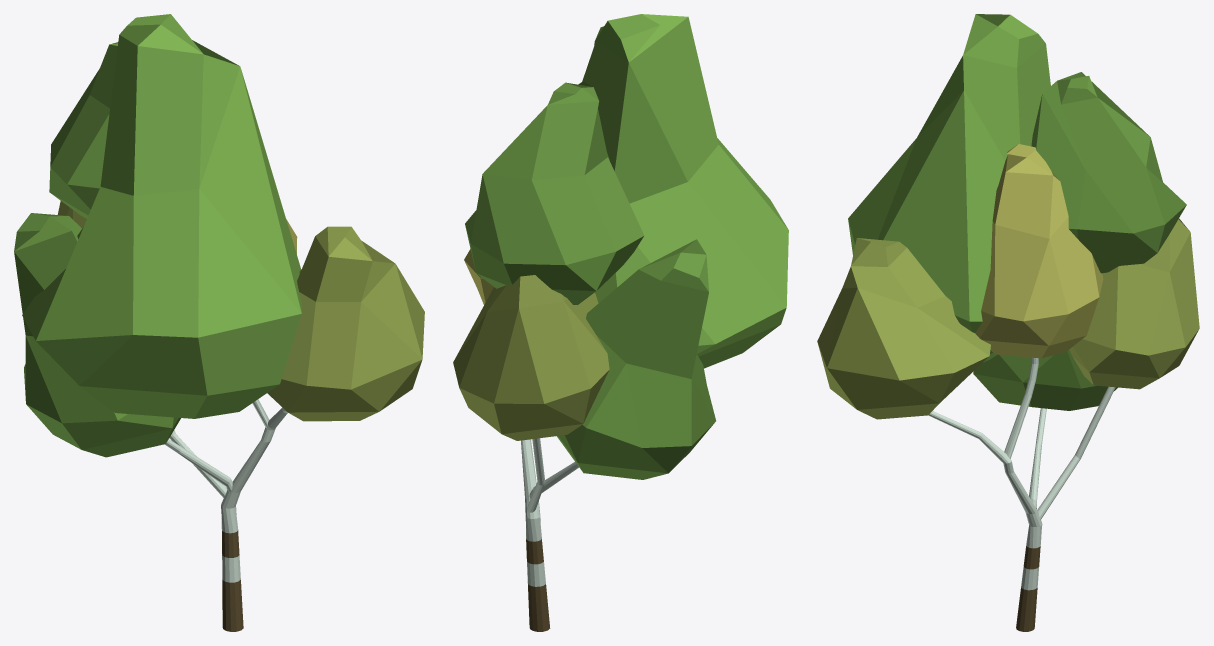
The model's file is OakTree.fbx.
The picture shows the model from 3 angles, left to right: view 1: azimuth 30°, elevation 25°; view 2: azimuth 150°, elevation 25°; view 3: azimuth 270°, elevation 25°; orthographic projection. The views are drawn at different scales.
Visible parts, largest first — view 1: OakTree; view 2: OakTree; view 3: OakTree.
Part boxes in pixels (x1=…): OakTree: x1=14, y1=14, x2=424, y2=631; OakTree: x1=453, y1=14, x2=788, y2=631; OakTree: x1=817, y1=14, x2=1199, y2=631.
Bounding box in the file's own units: 469 × 825 × 507.
